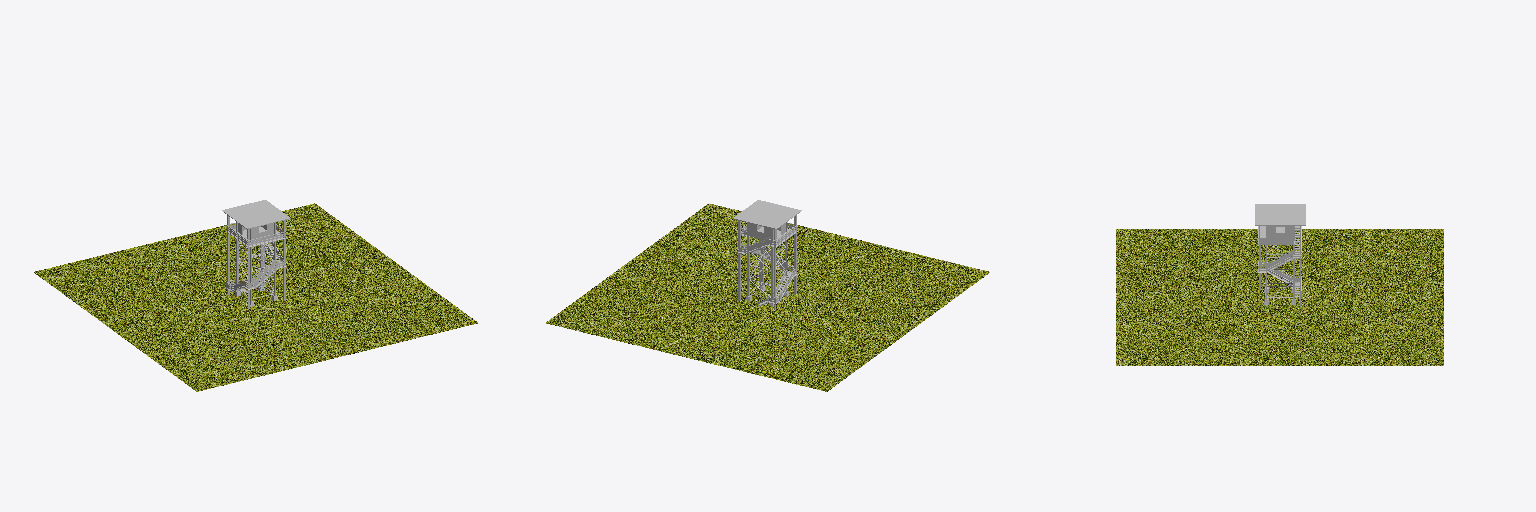
3 renders of one model, left to right at view 1: azimuth 30°, elevation 25°; view 2: azimuth 150°, elevation 25°; view 3: azimuth 270°, elevation 25°, orthographic.
Parts seen in each view (by area): view 1: Plane01, default; view 2: Plane01, default; view 3: Plane01, default.
Boxes of the visible parts, x1=… form: Plane01: x1=34, y1=203, x2=477, y2=391; default: x1=222, y1=200, x2=290, y2=309; Plane01: x1=546, y1=203, x2=989, y2=391; default: x1=733, y1=200, x2=801, y2=309; Plane01: x1=1116, y1=229, x2=1443, y2=365; default: x1=1255, y1=204, x2=1305, y2=306.
Size of the model in its own units: 27.11 by 7.65 by 27.28.
2 materials, 1 textured.